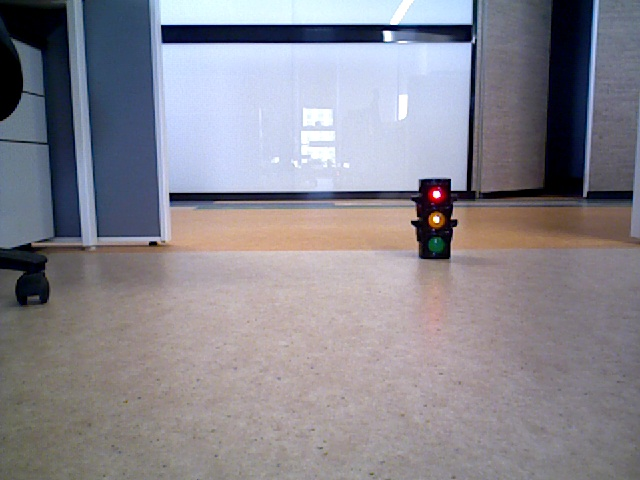red: (420, 180, 449, 257)
